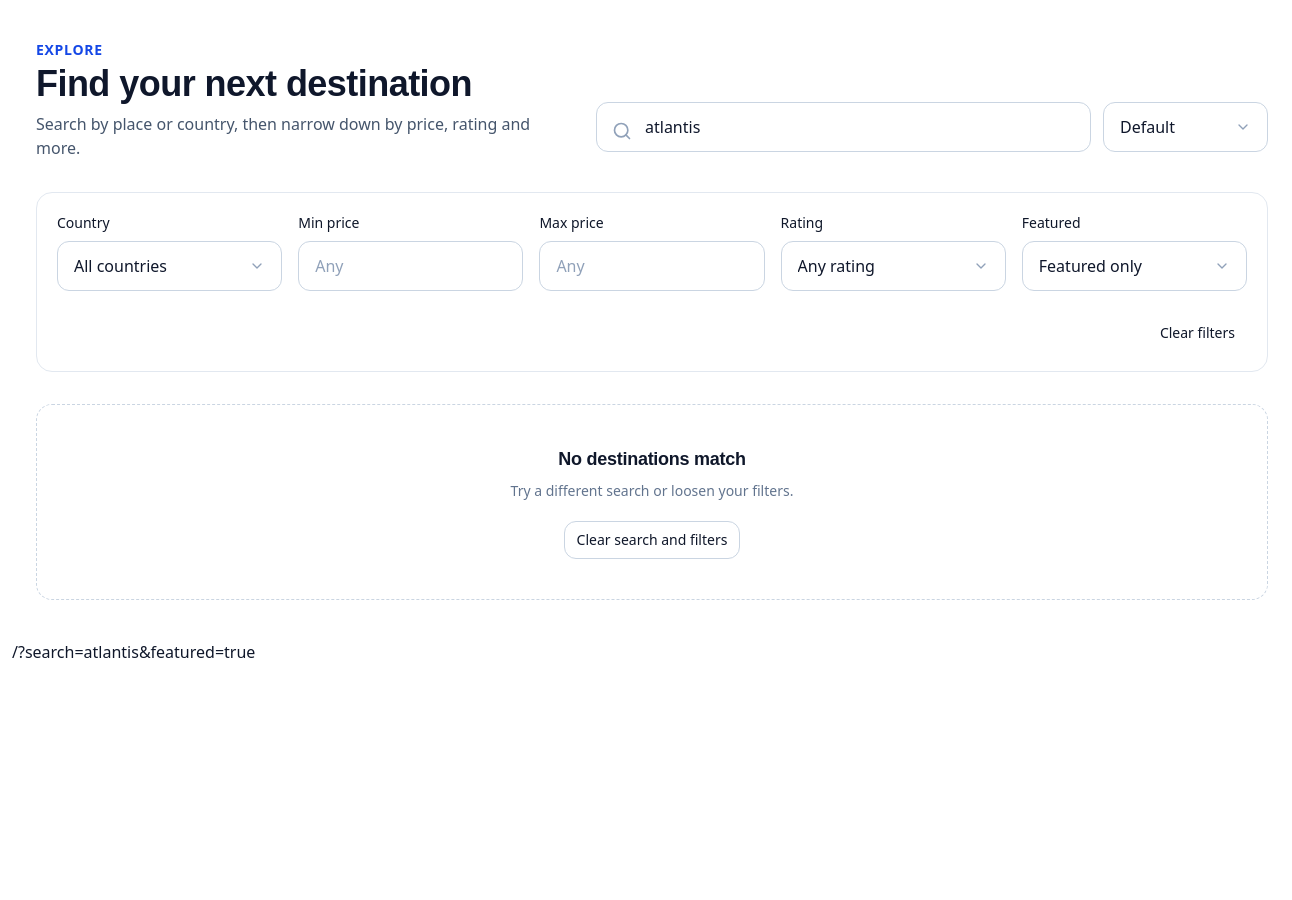
it: Home › clears every param from the URL
Click the button "Clear search and filters" at (652, 540), box 564,521 -> 740,559
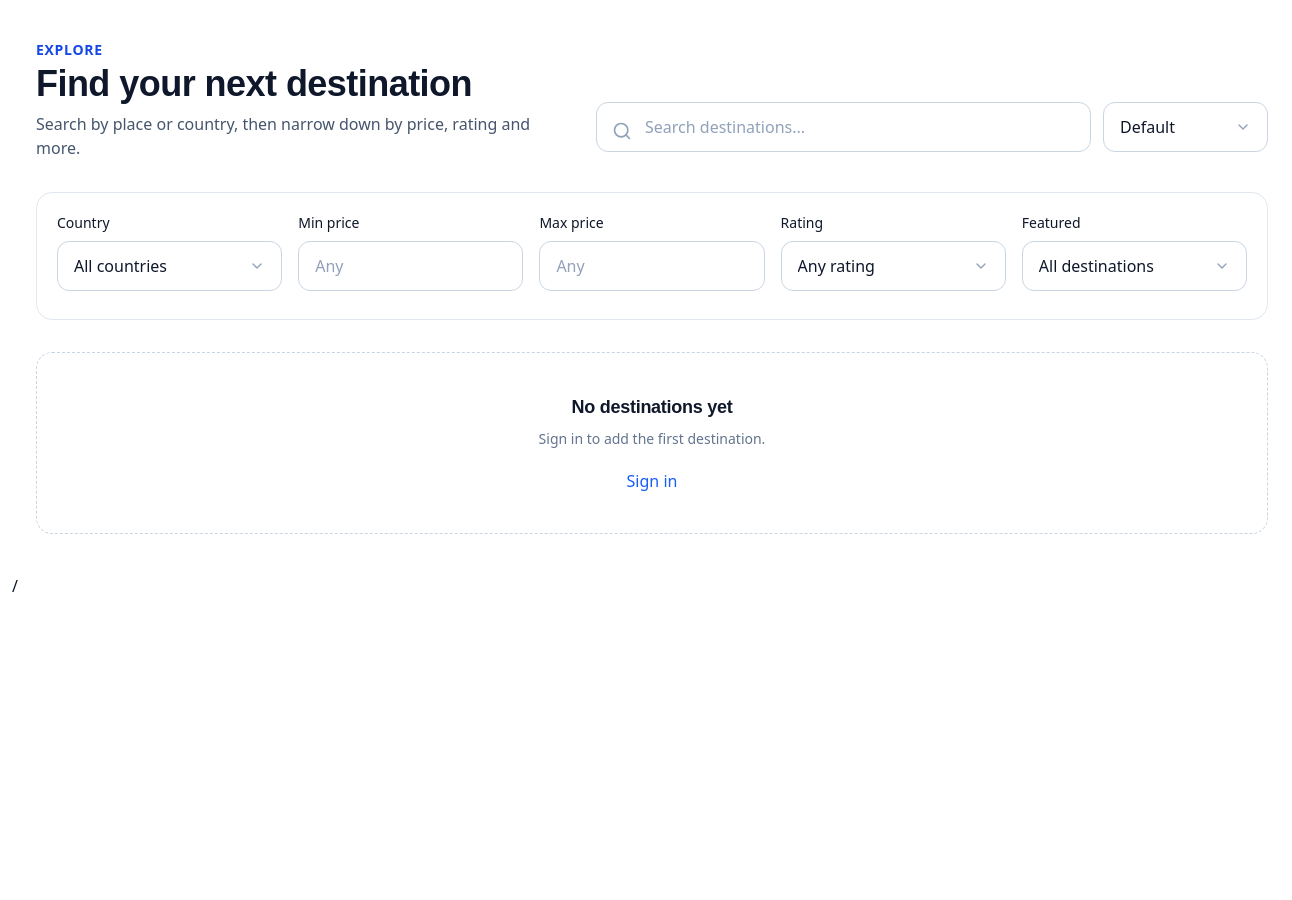
Expected: the text with test id "location" reads "/", 12,575 -> 18,597
